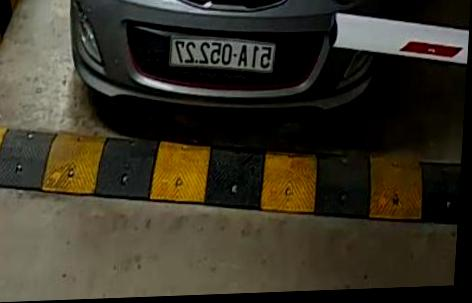License_Plate: (164, 32, 281, 85)
